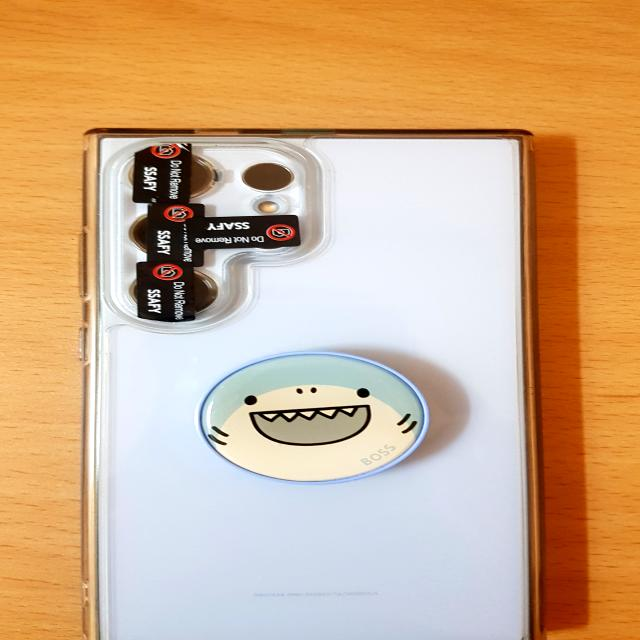phone: (78, 123, 550, 640)
sticker: (133, 138, 197, 204), (146, 203, 202, 269), (137, 262, 196, 324), (187, 218, 304, 249)
